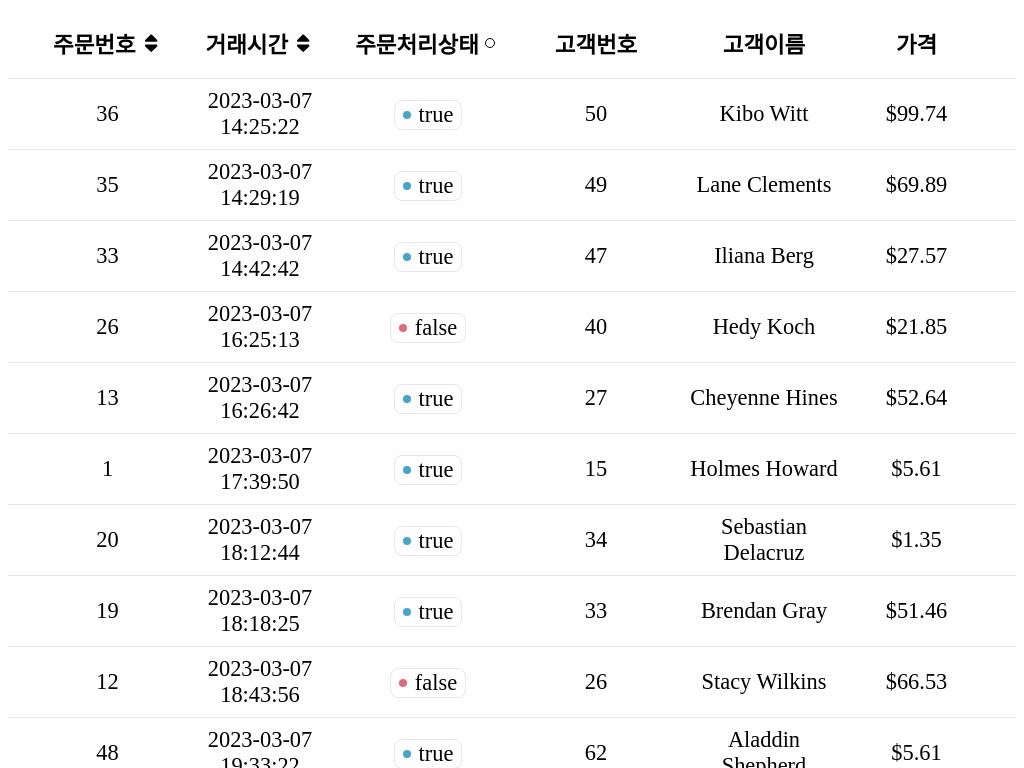
Table › 필터 두번 클릭시 false 보여지도록
Click the button with test id "filterBtn". click: (490, 43)
box: [479, 37, 501, 49]
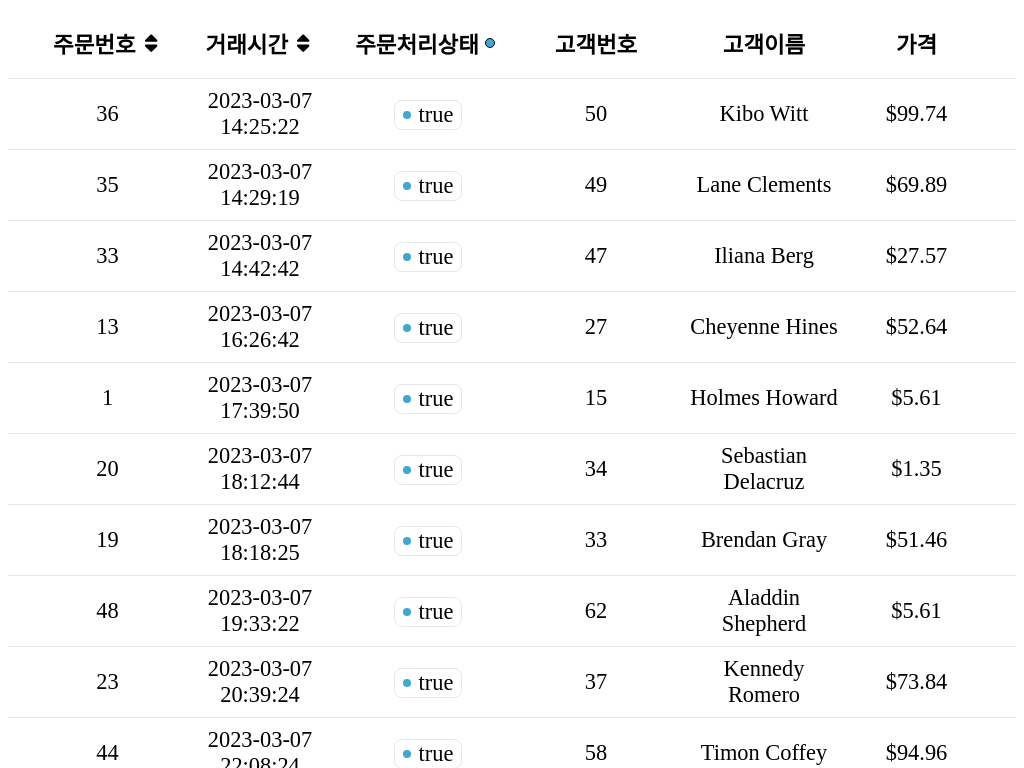
Click the button with test id "filterBtn". click: (490, 43)
box: [479, 37, 501, 49]
(page scrolled)
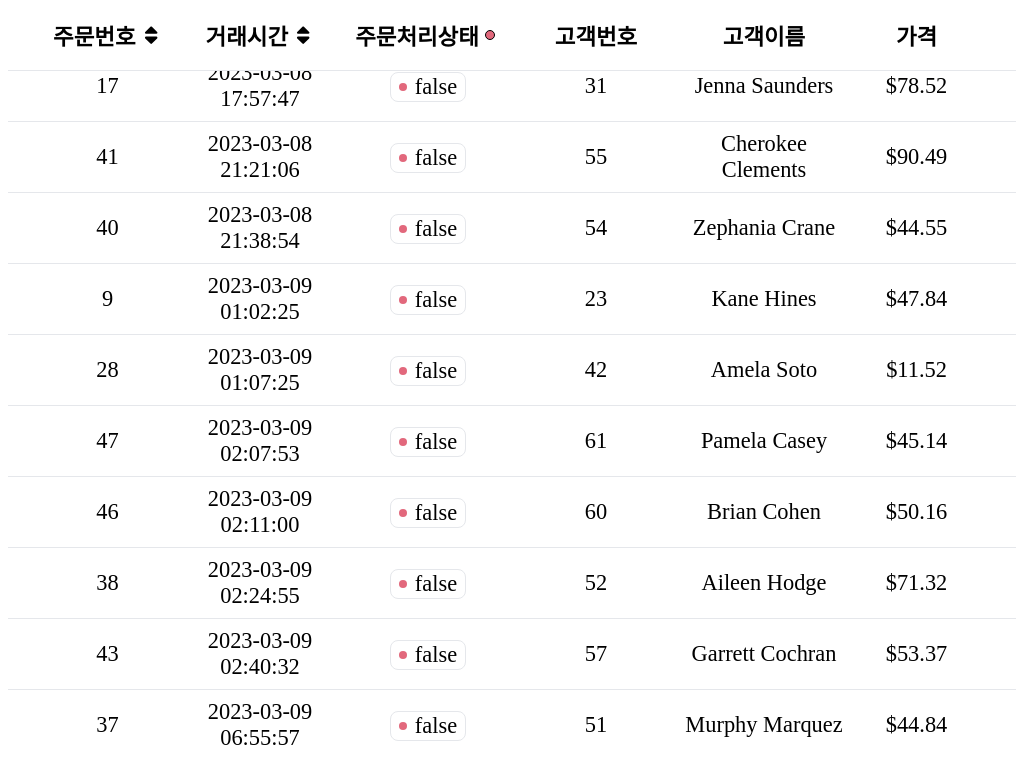
Now the row "17 2023-03-08 17:57:47 false 31 Jenna Saunders $78.52" is shown, box [8, 51, 1016, 122]
Now the row "41 2023-03-08 21:21:06 false 55 Cherokee Clements $90.49" is shown, box [8, 122, 1016, 193]
Now the row "40 2023-03-08 21:38:54 false 54 Zephania Crane $44.55" is shown, box [8, 193, 1016, 264]
